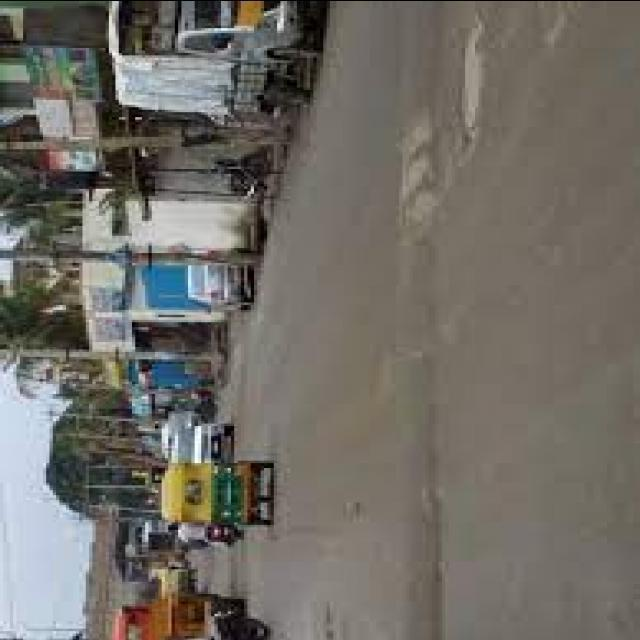speedbreaker: (382, 0, 448, 632)
